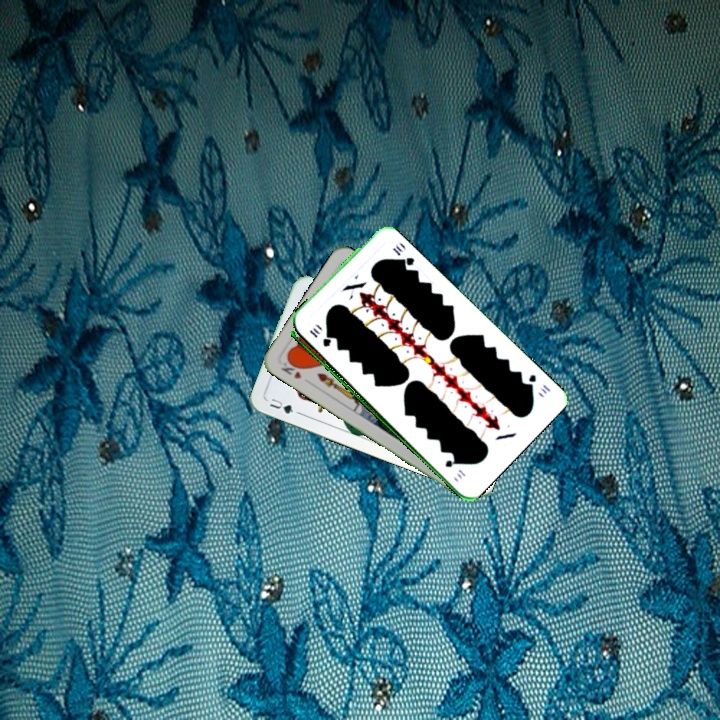G10: (522, 370, 553, 396), (305, 326, 333, 350)
GU: (265, 394, 302, 417)
HK: (277, 354, 305, 382)
